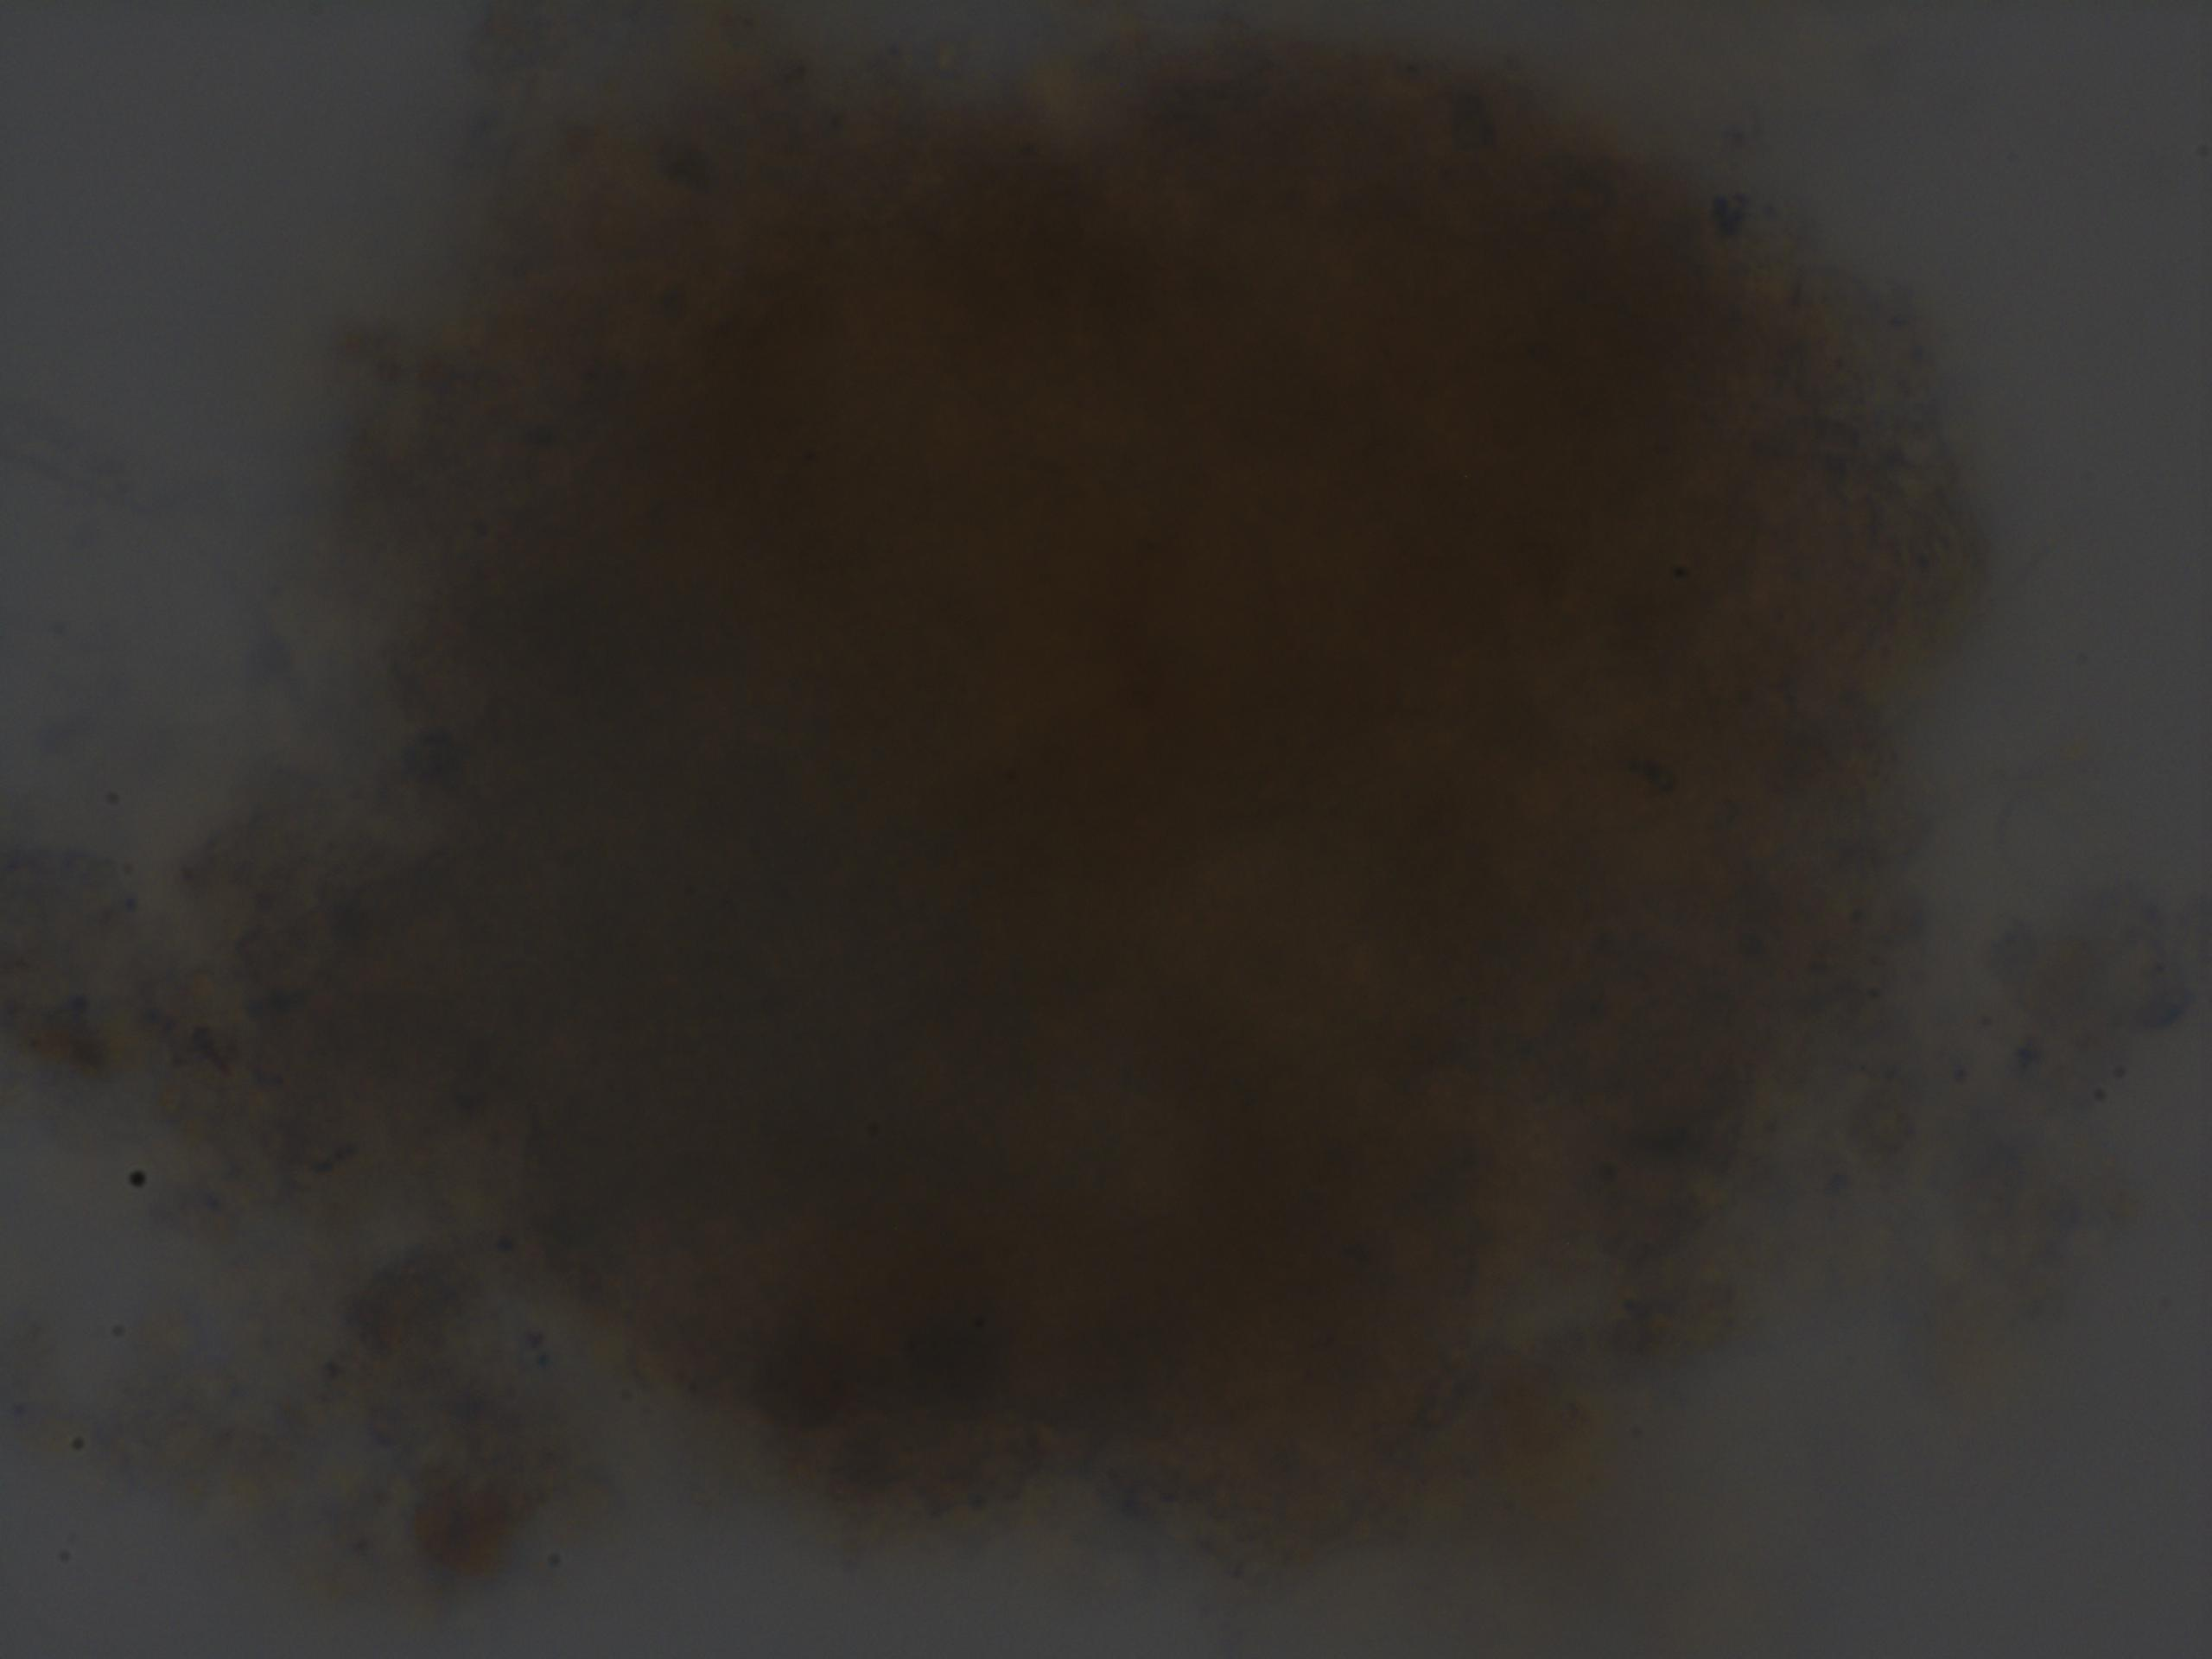spherical_floc: (279, 0, 1980, 1588)
